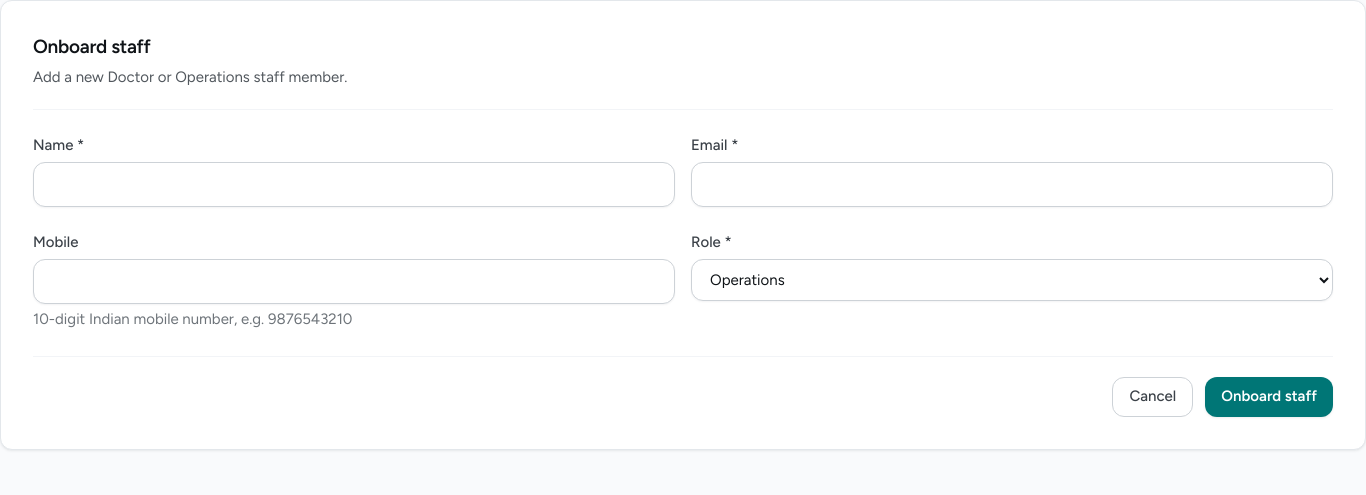
Test: OnboardStaffForm › shows a MISSING_REQUIRED_FIELD error at the email field, not the banner
Type "Jane Ops" into the field labelled "Name *" at (354, 184), box x1=33 y1=162 x2=675 y2=207
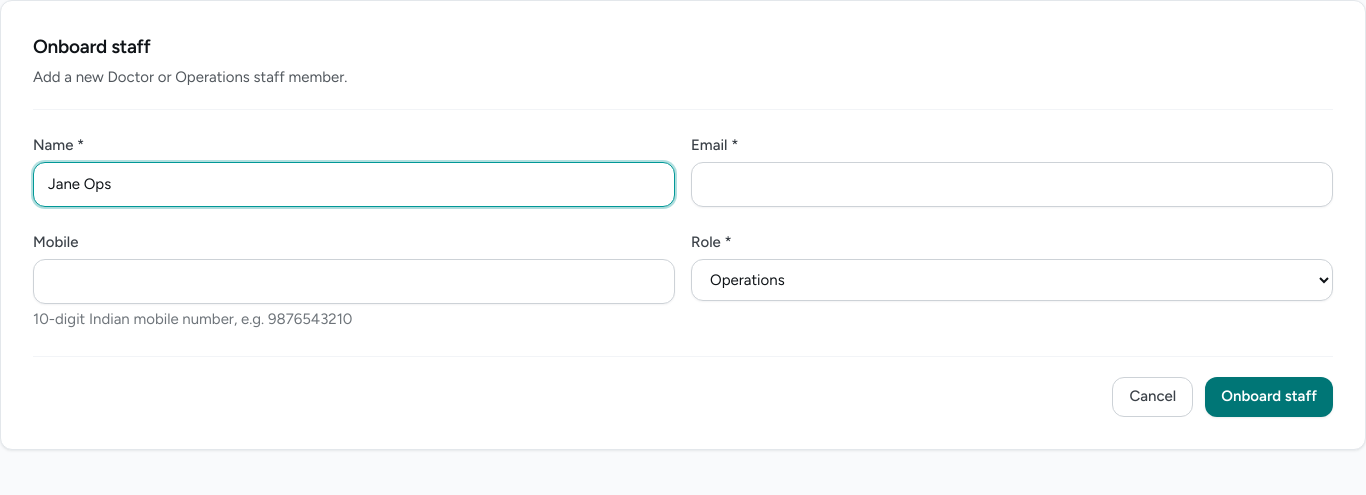
Type "ops@clinic.example" into the field labelled "Email *" at (1012, 184), box x1=691 y1=162 x2=1333 y2=207
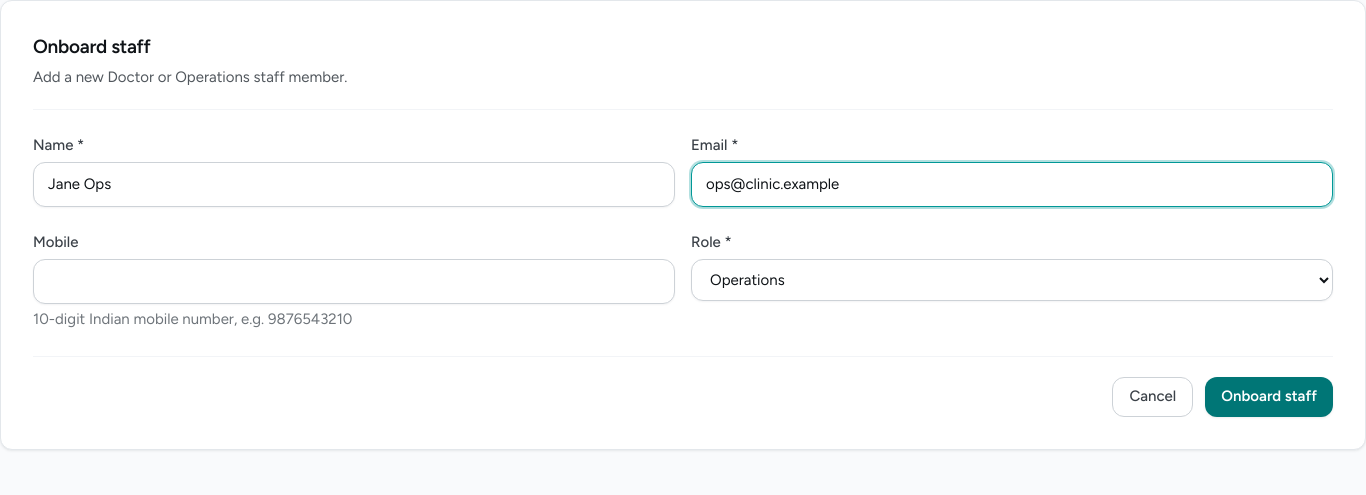
Click the button "Onboard staff" at (1269, 397), box x1=1205 y1=377 x2=1333 y2=417
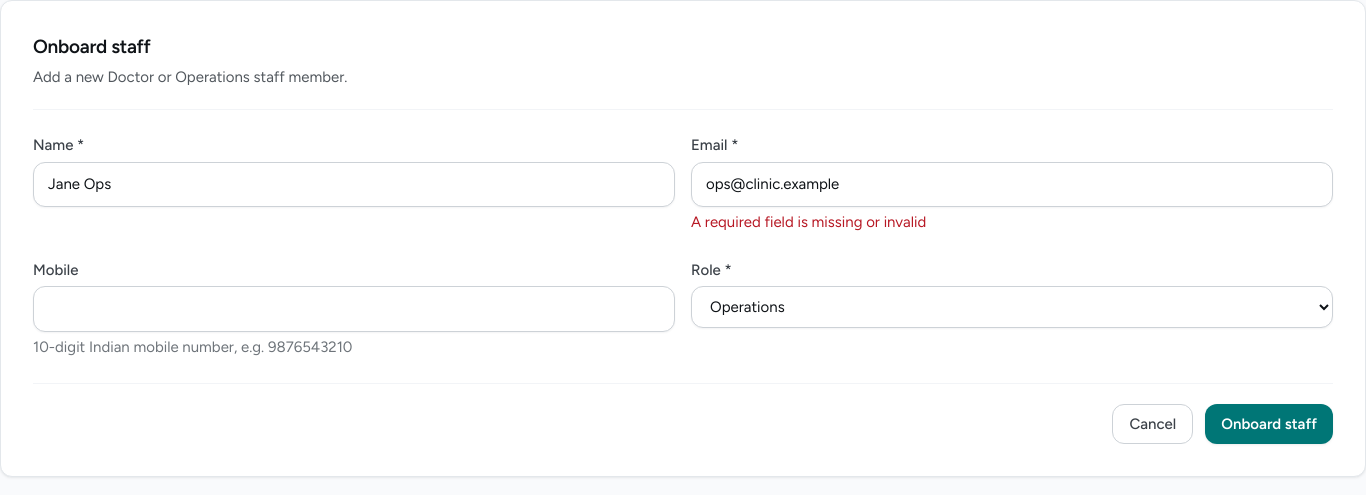
Expected: the message shows "required field is missing", x1=691 y1=213 x2=926 y2=231
